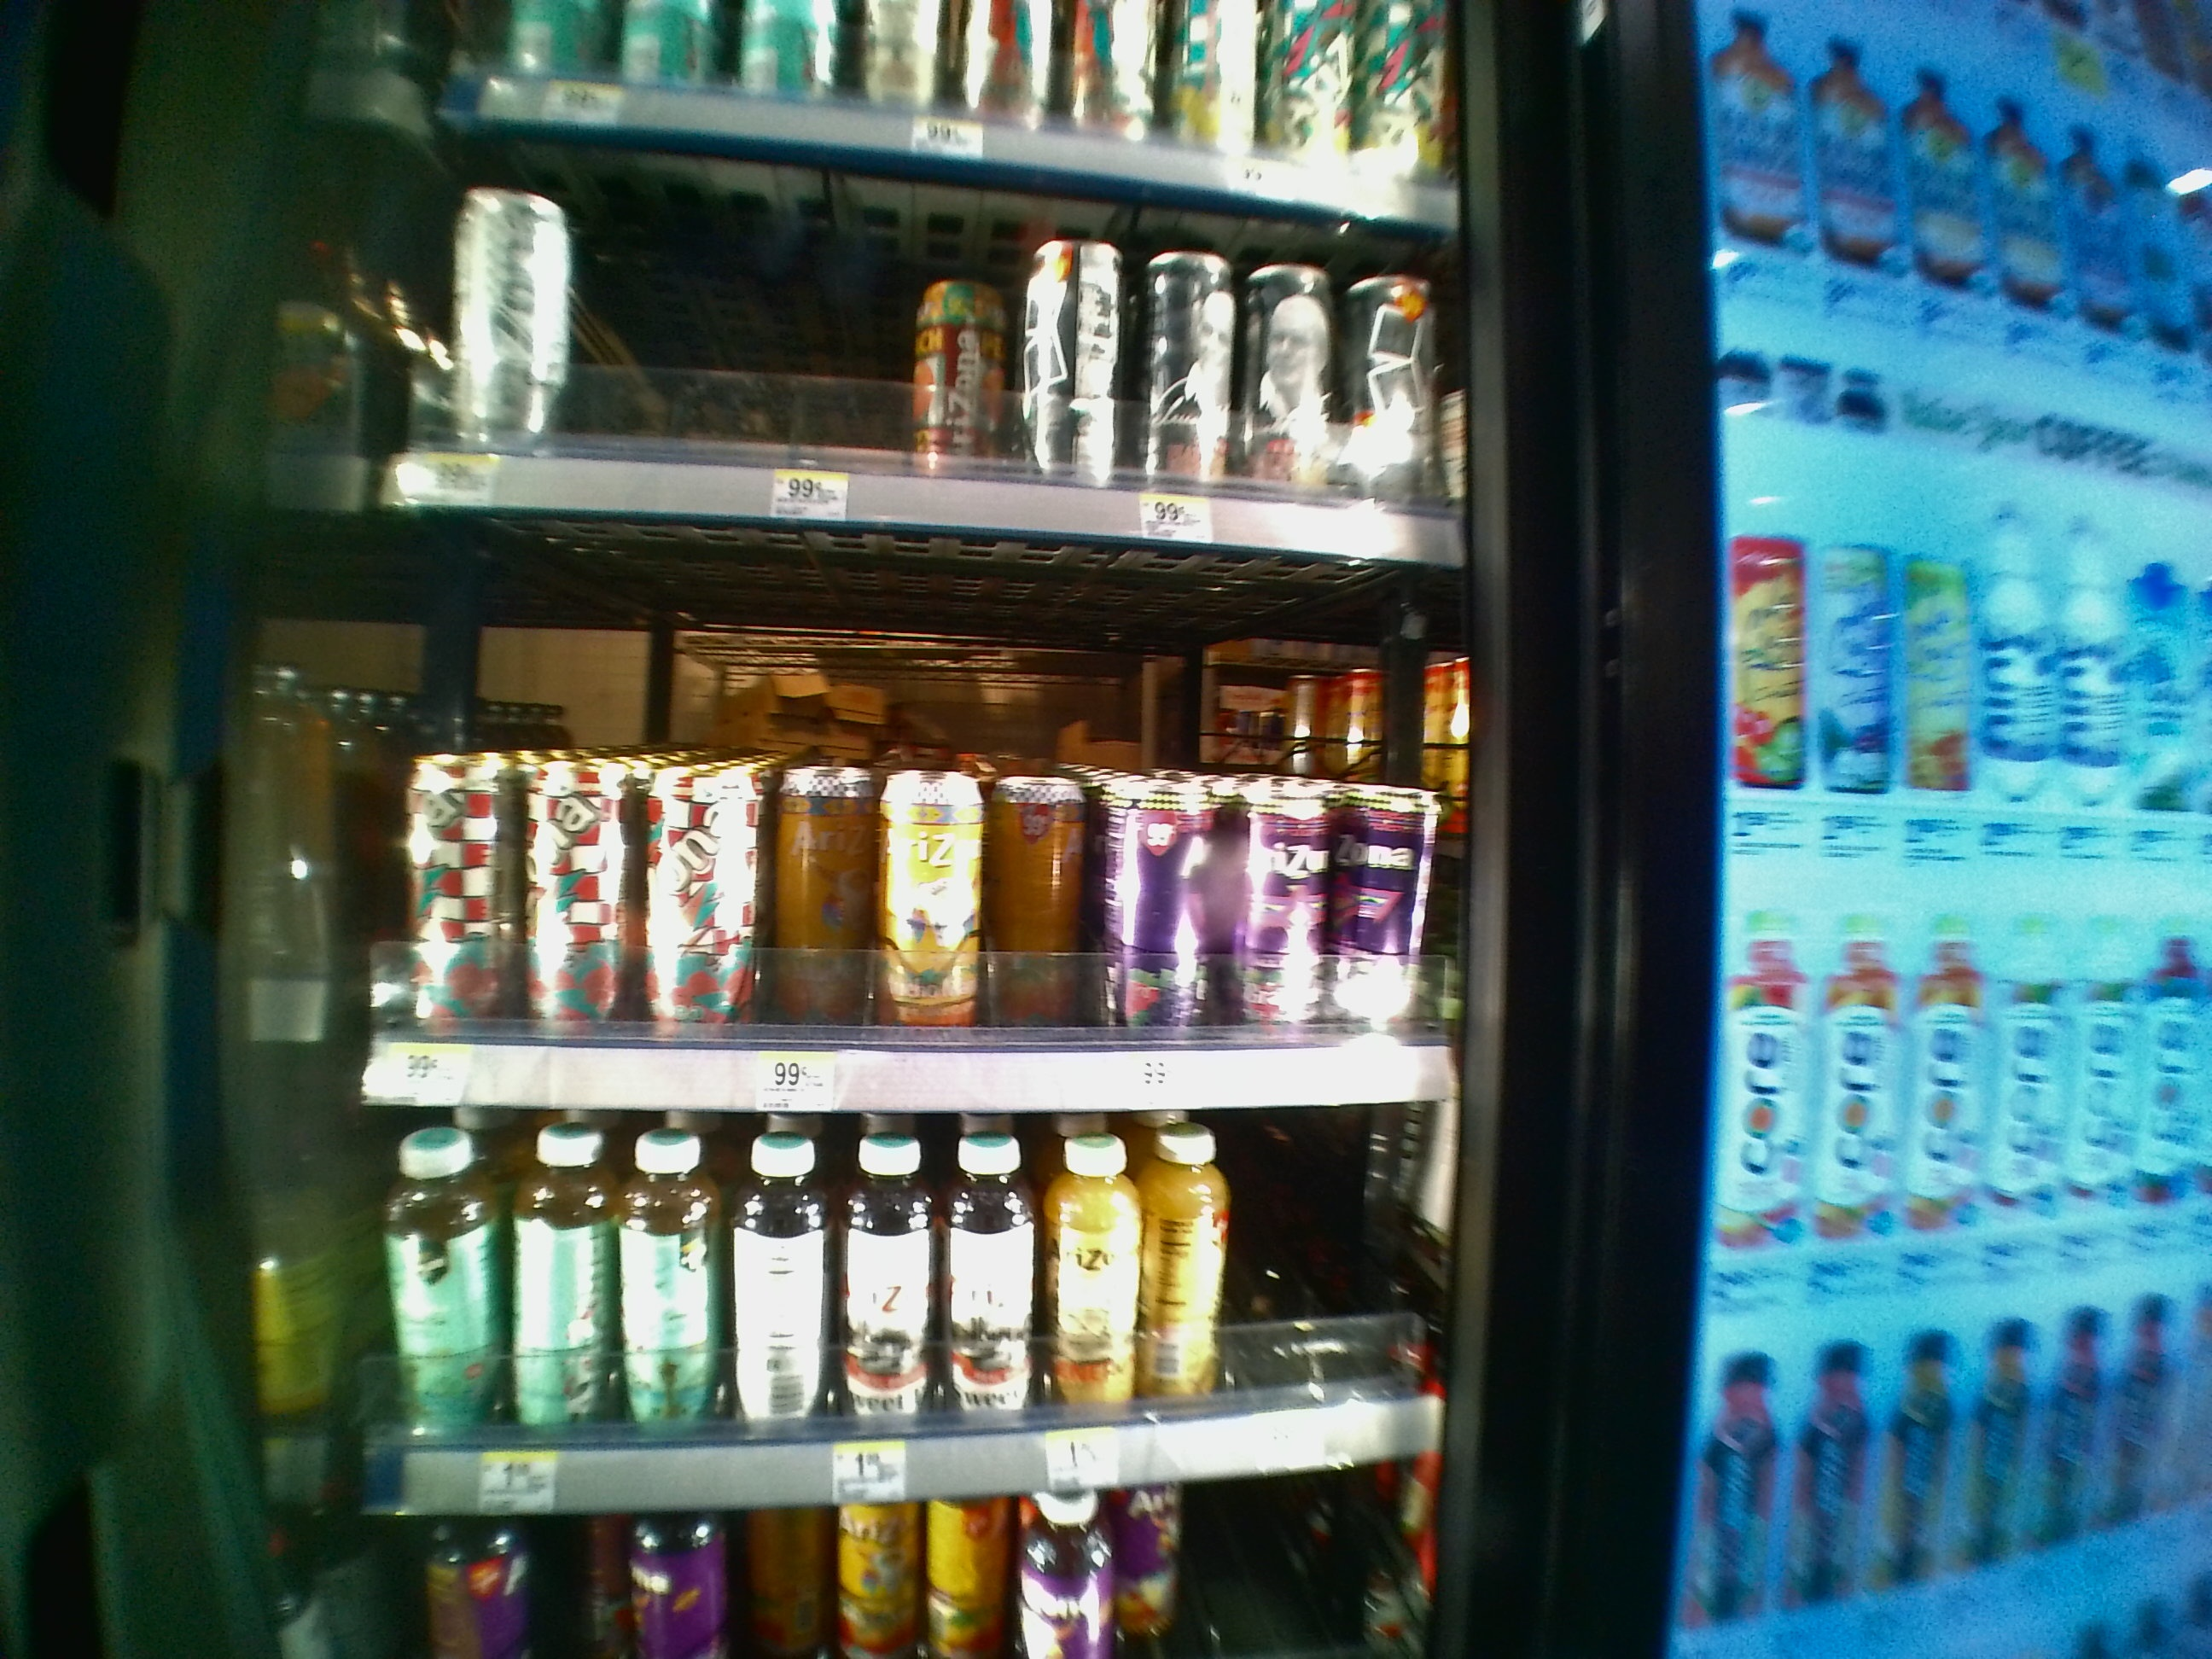shelf: (361, 518, 1458, 1105), (366, 1121, 1447, 1521)
